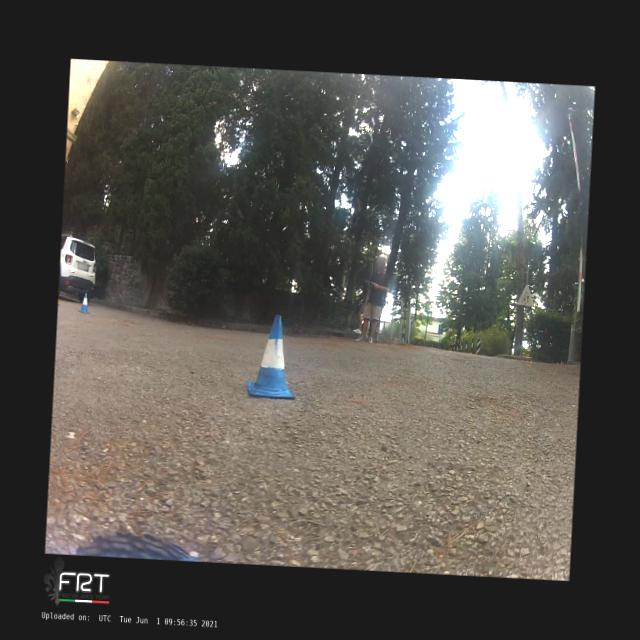blue_cone: (247, 314, 299, 399), (77, 292, 91, 314)
yellow_cone: (58, 287, 61, 306)
